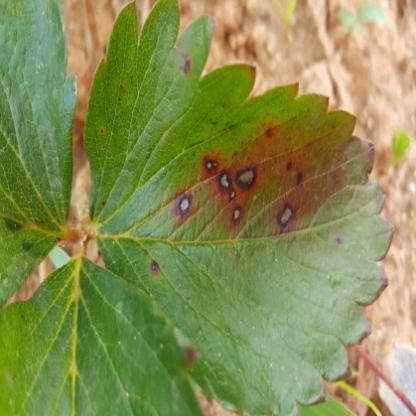Strawberry_Leaf_Spot: (82, 0, 396, 415)
